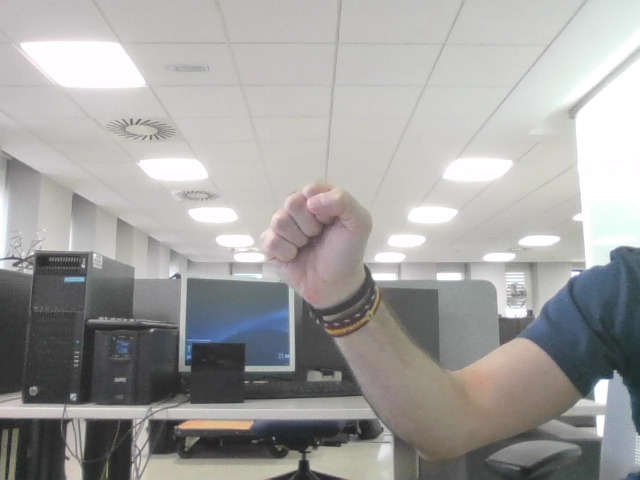Puño: (272, 191, 354, 258)
